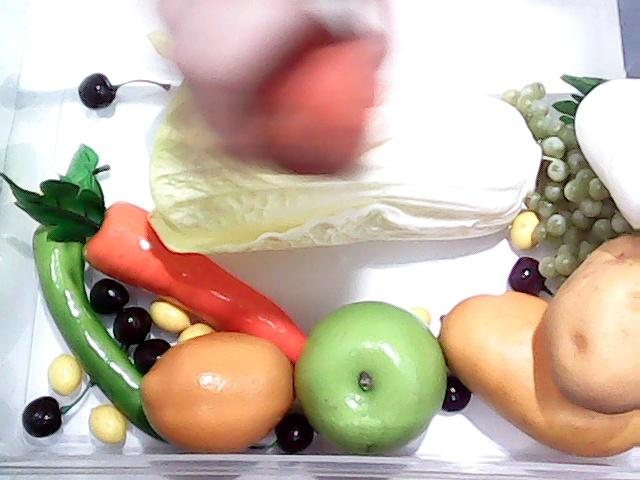apple: (289, 294, 455, 454)
carrot: (0, 143, 312, 364)
grape: (533, 83, 607, 255)
lemon: (130, 328, 302, 476)
mango: (439, 289, 640, 458)
napa cabbage: (139, 46, 541, 257)
peach: (256, 24, 380, 178)
pepper: (25, 157, 197, 447)
potato: (547, 233, 640, 414)
radish: (552, 73, 640, 231)
